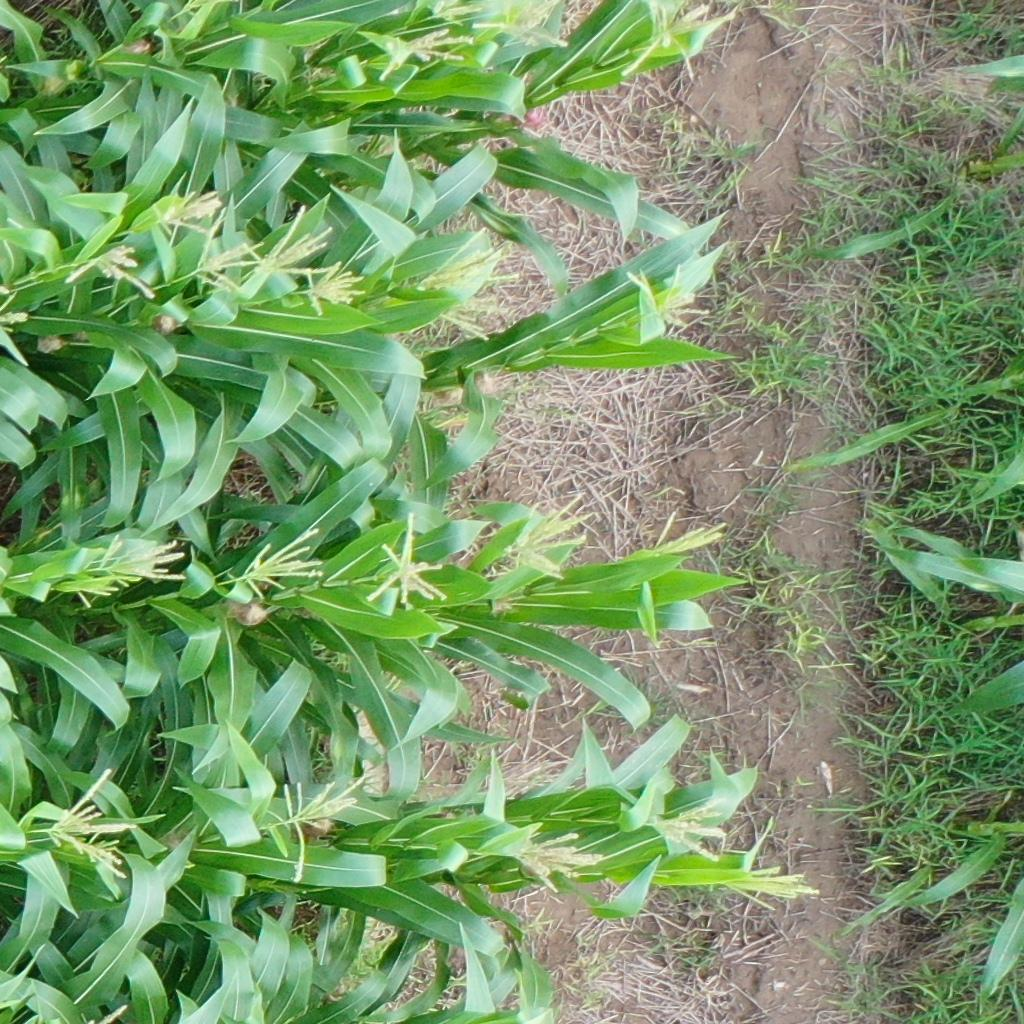Tassel: (412, 224, 523, 344), (263, 776, 379, 880), (46, 770, 143, 879), (363, 510, 452, 613), (505, 489, 590, 583), (624, 1, 721, 83), (241, 204, 339, 277), (734, 834, 823, 913), (190, 209, 270, 294), (492, 834, 607, 893), (236, 530, 332, 600), (370, 27, 474, 89), (621, 261, 714, 330), (60, 235, 158, 300), (644, 796, 731, 860), (646, 506, 729, 568), (287, 259, 366, 319), (97, 535, 190, 585), (147, 179, 227, 235), (474, 1, 571, 47), (48, 569, 143, 611), (1, 279, 30, 339), (429, 1, 482, 25), (176, 1, 221, 21)
